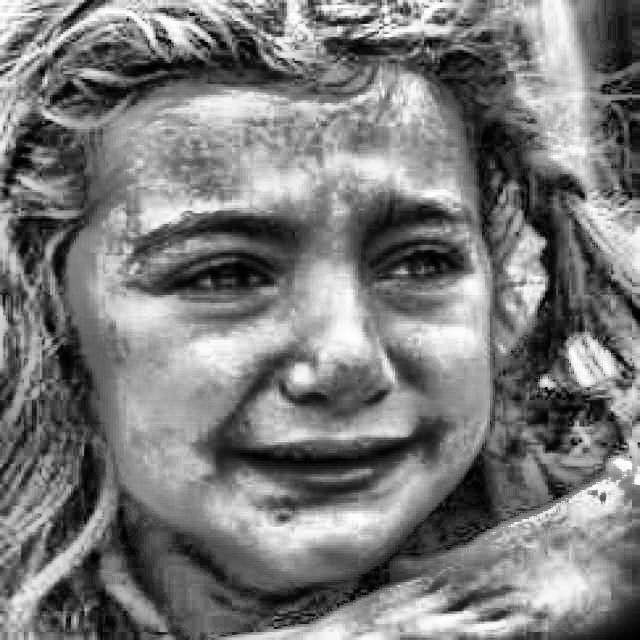sad: (68, 74, 482, 524)
